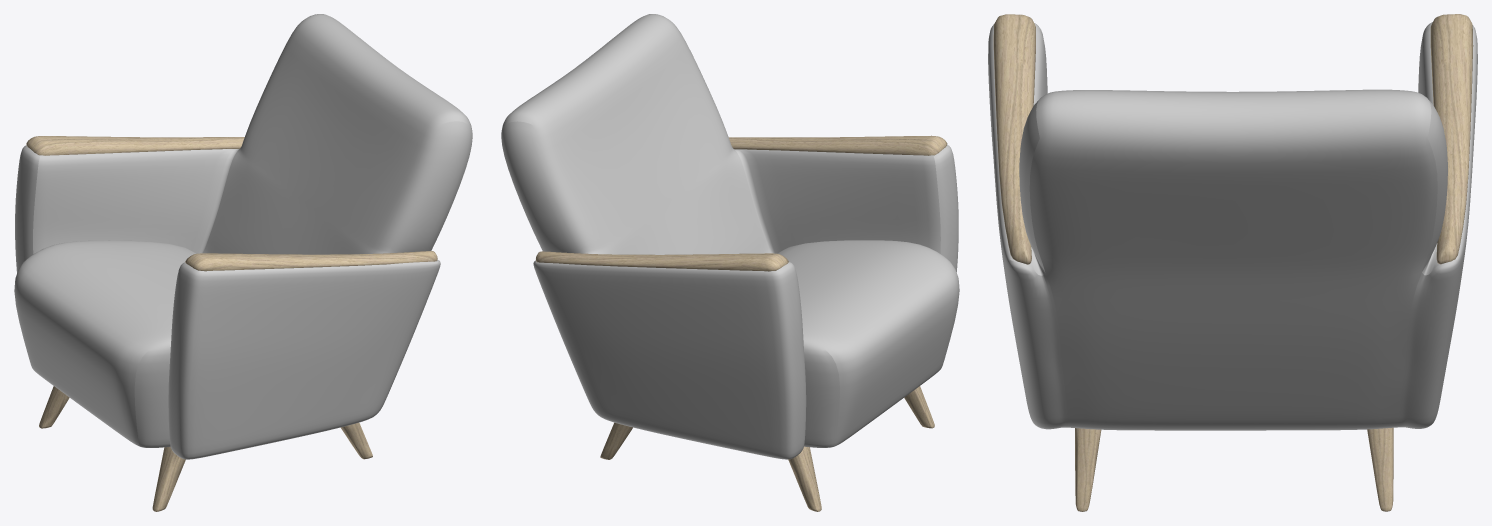
3 views of the same model, side by side, from view 1: azimuth 30°, elevation 25°; view 2: azimuth 150°, elevation 25°; view 3: azimuth 270°, elevation 25° (orthographic). The views are drawn at different scales.
Visible parts, largest first — view 1: Body.001, Arm_1.002, Foot_2_1.001; view 2: Body.001, Arm_1.002, Foot_2_1.001; view 3: Body.001, Arm_1.002, Foot_2_1.001.
Boxes of the visible parts, left/top/right/bottom form: Body.001: left=14, top=14, right=472, bottom=459; Arm_1.002: left=26, top=136, right=437, bottom=271; Foot_2_1.001: left=39, top=386, right=372, bottom=511; Body.001: left=501, top=14, right=959, bottom=459; Arm_1.002: left=536, top=135, right=947, bottom=271; Foot_2_1.001: left=600, top=386, right=934, bottom=511; Body.001: left=988, top=22, right=1477, bottom=430; Arm_1.002: left=993, top=14, right=1473, bottom=264; Foot_2_1.001: left=1075, top=427, right=1393, bottom=511.
Size of the model in its own units: 83.06 by 78.05 by 75.03.
